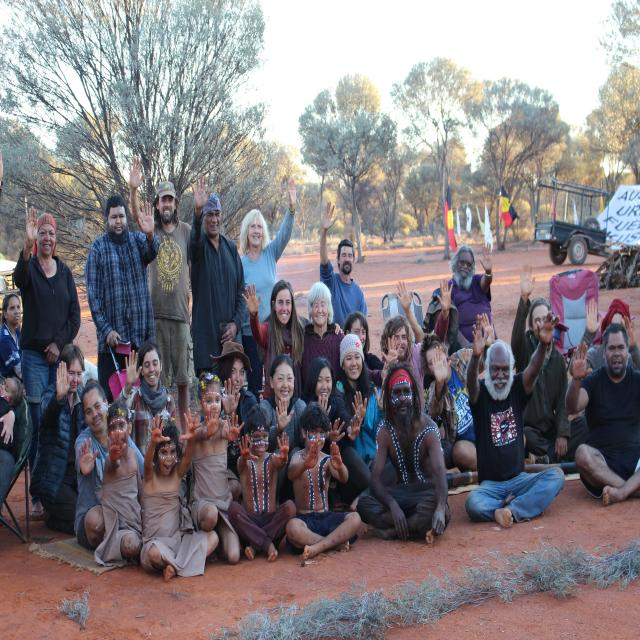body: (462, 308, 569, 534), (13, 203, 83, 524), (126, 153, 194, 442), (355, 360, 453, 546), (419, 312, 527, 470), (510, 261, 590, 468), (84, 194, 160, 405), (563, 320, 640, 511), (234, 178, 298, 402), (140, 407, 219, 583), (283, 399, 364, 559), (241, 278, 345, 401), (74, 377, 146, 552), (188, 172, 247, 382), (226, 401, 299, 567), (259, 352, 332, 512), (299, 280, 399, 396), (29, 342, 86, 538), (191, 369, 245, 566), (377, 278, 453, 416), (300, 356, 364, 512), (94, 398, 146, 568), (209, 340, 260, 509), (116, 340, 176, 460), (335, 334, 386, 474), (320, 200, 368, 336), (440, 241, 499, 351), (569, 297, 640, 377), (394, 279, 464, 357), (338, 310, 391, 375), (0, 395, 27, 512), (0, 293, 23, 383), (0, 376, 23, 434), (0, 141, 8, 205)
